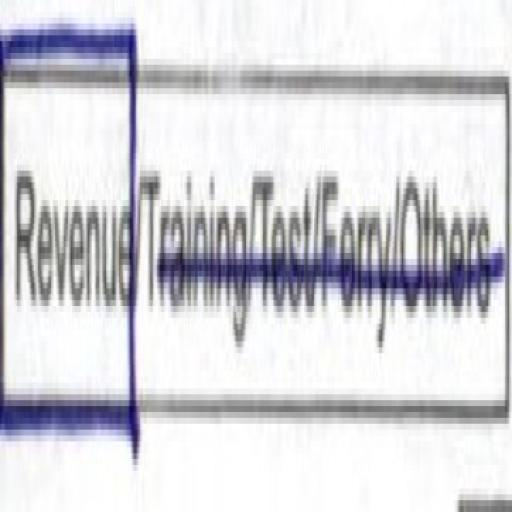check: (0, 0, 143, 473)
